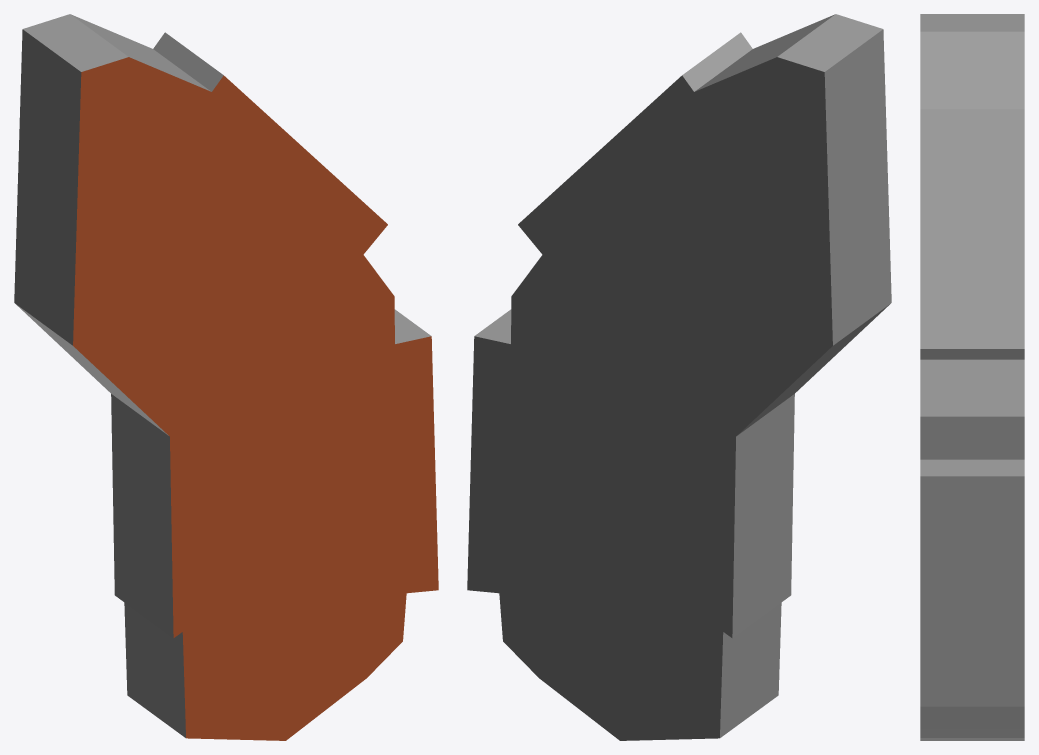
File: construction_1048_assumed_A_Casa_h6m.obj
The picture shows the model from 3 angles, left to right: view 1: azimuth 30°, elevation 25°; view 2: azimuth 150°, elevation 25°; view 3: azimuth 270°, elevation 25°; orthographic projection. The views are drawn at different scales.
Visible parts, largest first — view 1: construction_1048_assumed_A_Casa; view 2: construction_1048_assumed_A_Casa; view 3: construction_1048_assumed_A_Casa.
Boxes of the visible parts, left/top/right/bottom form: construction_1048_assumed_A_Casa: left=14, top=14, right=438, bottom=740; construction_1048_assumed_A_Casa: left=467, top=14, right=891, bottom=740; construction_1048_assumed_A_Casa: left=920, top=14, right=1024, bottom=740.
Size of the model in its own units: 21.55 by 40.67 by 6.
